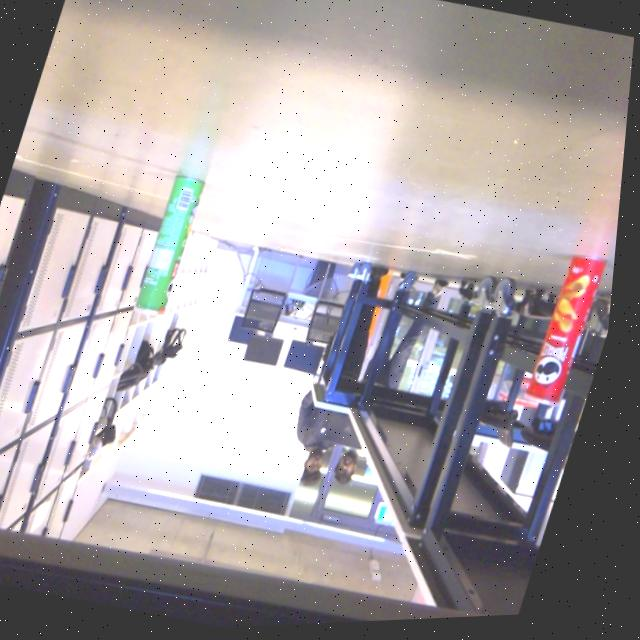greenpringles: (129, 162, 223, 336)
redpringles: (523, 245, 621, 425)
